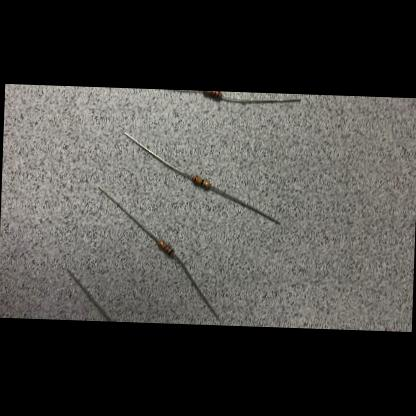resistor: (155, 240, 176, 258), (192, 175, 210, 190), (201, 91, 221, 101)
wire: (96, 185, 158, 241), (122, 132, 192, 178), (172, 255, 219, 320), (210, 185, 280, 224), (66, 268, 112, 322), (222, 94, 300, 103), (172, 90, 202, 92)
